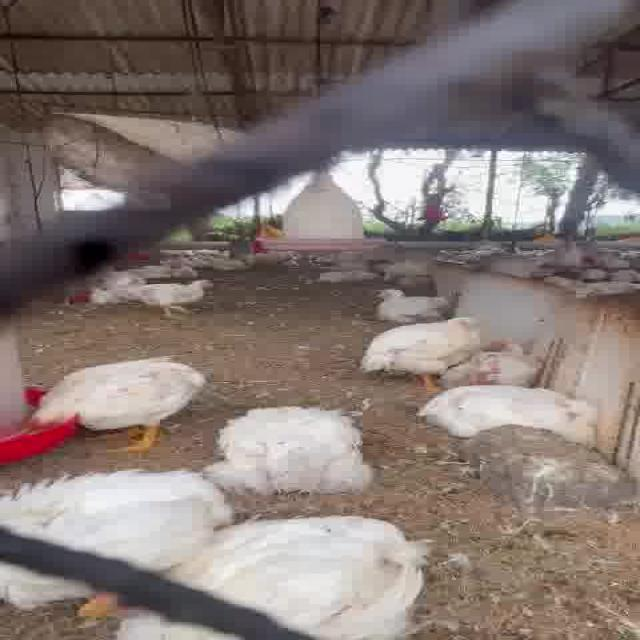AbNormal: (124, 512, 466, 640), (10, 476, 240, 608), (204, 396, 379, 498), (414, 384, 626, 446), (432, 338, 576, 388)
Normal: (25, 351, 208, 449), (364, 314, 505, 372), (350, 275, 462, 327), (122, 270, 234, 315)
